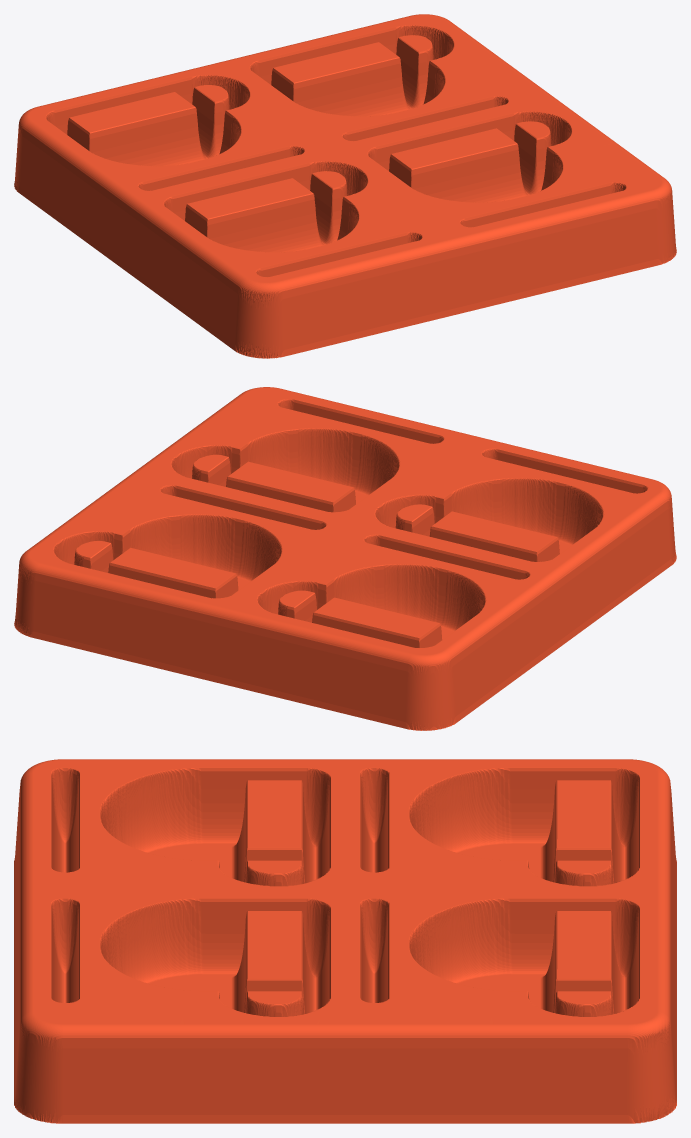
Rendered from mold.glb.
The picture shows the model from 3 angles, top to bottom: view 1: azimuth 30°, elevation 25°; view 2: azimuth 150°, elevation 25°; view 3: azimuth 270°, elevation 25°; orthographic projection. The views are drawn at different scales.
Parts seen in each view (by area): view 1: geometry_0; view 2: geometry_0; view 3: geometry_0.
Boxes of the visible parts, x1=… form: geometry_0: x1=14, y1=14, x2=676, y2=358; geometry_0: x1=14, y1=387, x2=676, y2=730; geometry_0: x1=14, y1=759, x2=676, y2=1123.
Bounding box in the file's own units: 0.1218 × 0.0185 × 0.1218.
